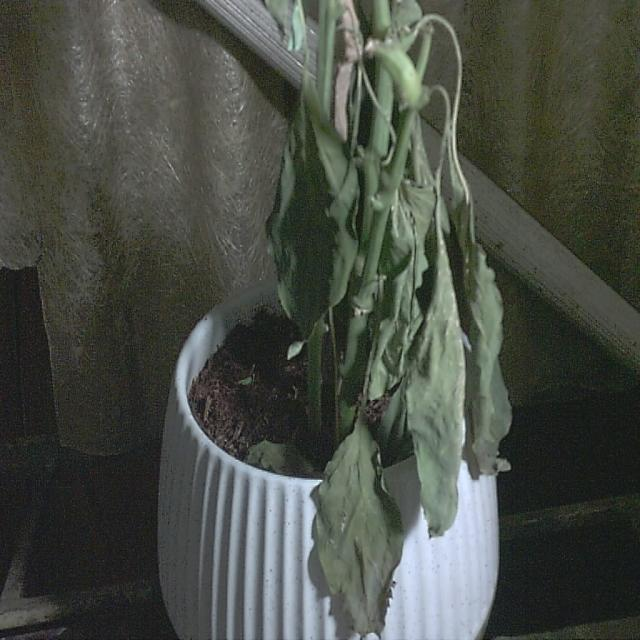Leaf: (264, 67, 362, 359), (315, 421, 405, 640), (404, 249, 466, 538)
